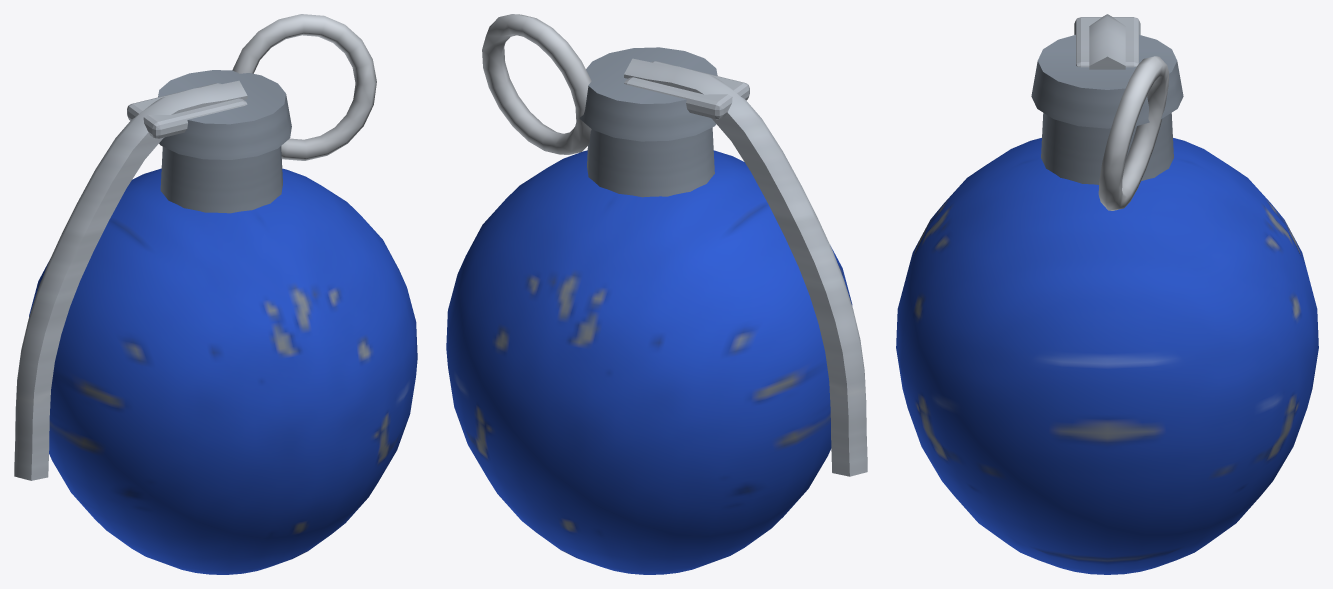
The model's file is ClusterGrenade.fbx.
The picture shows the model from 3 angles, left to right: view 1: azimuth 30°, elevation 25°; view 2: azimuth 150°, elevation 25°; view 3: azimuth 270°, elevation 25°; orthographic projection. The views are drawn at different scales.
Visible parts, largest first — view 1: ClusterGrenade; view 2: ClusterGrenade; view 3: ClusterGrenade.
Part boxes in pixels (left/top/right/bottom): ClusterGrenade: left=14, top=14, right=417, bottom=574; ClusterGrenade: left=446, top=14, right=867, bottom=574; ClusterGrenade: left=896, top=14, right=1318, bottom=574.
Size of the model in its own units: 0.3552 by 0.4567 by 0.32.
5 materials, 5 textured.
